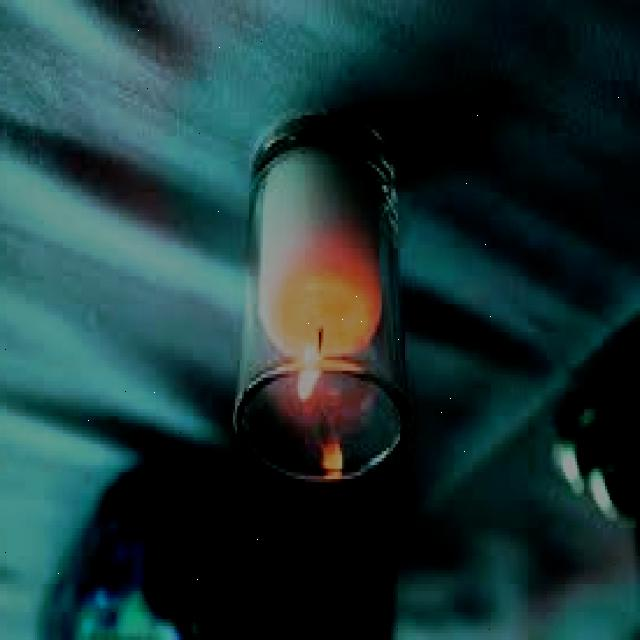api: (292, 341, 334, 407)
